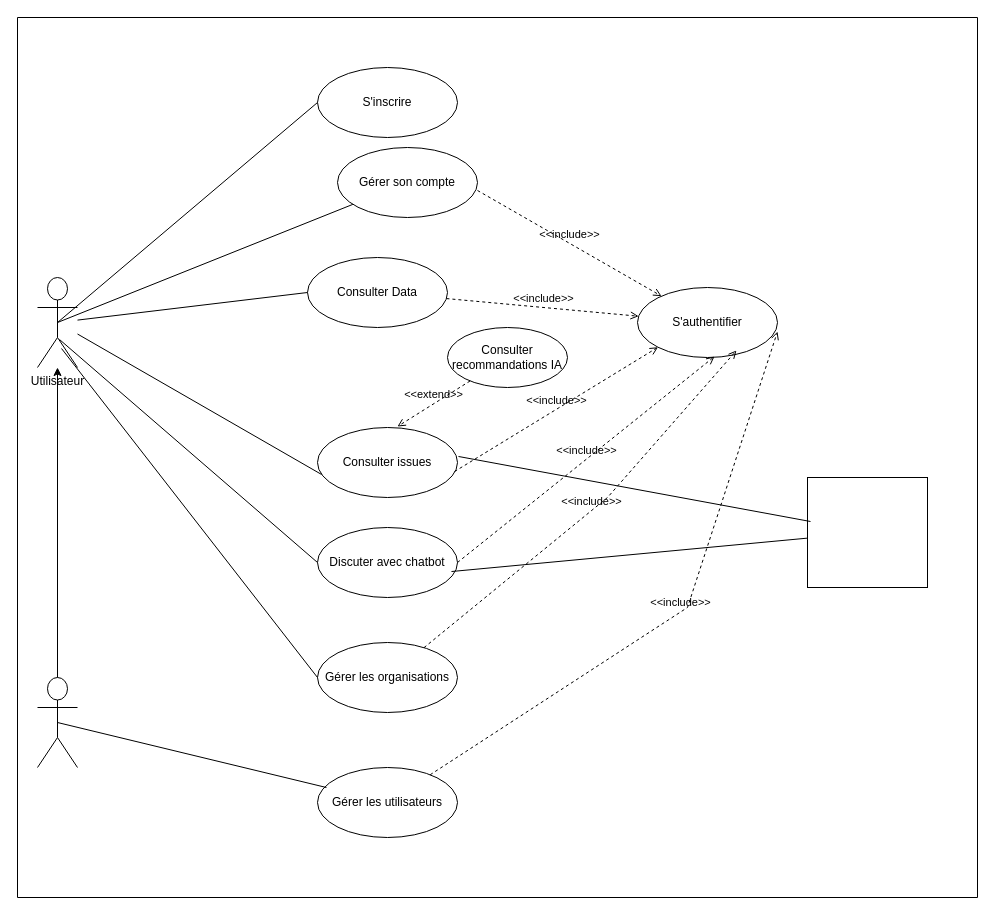
The diagram is 995 pixels wide and 915 high, and some of its shapes have lost their labels. Each missing label, with the box of its shape:
<<system>> Système IA: (806, 476, 928, 588)
Admin: (36, 676, 78, 768)
